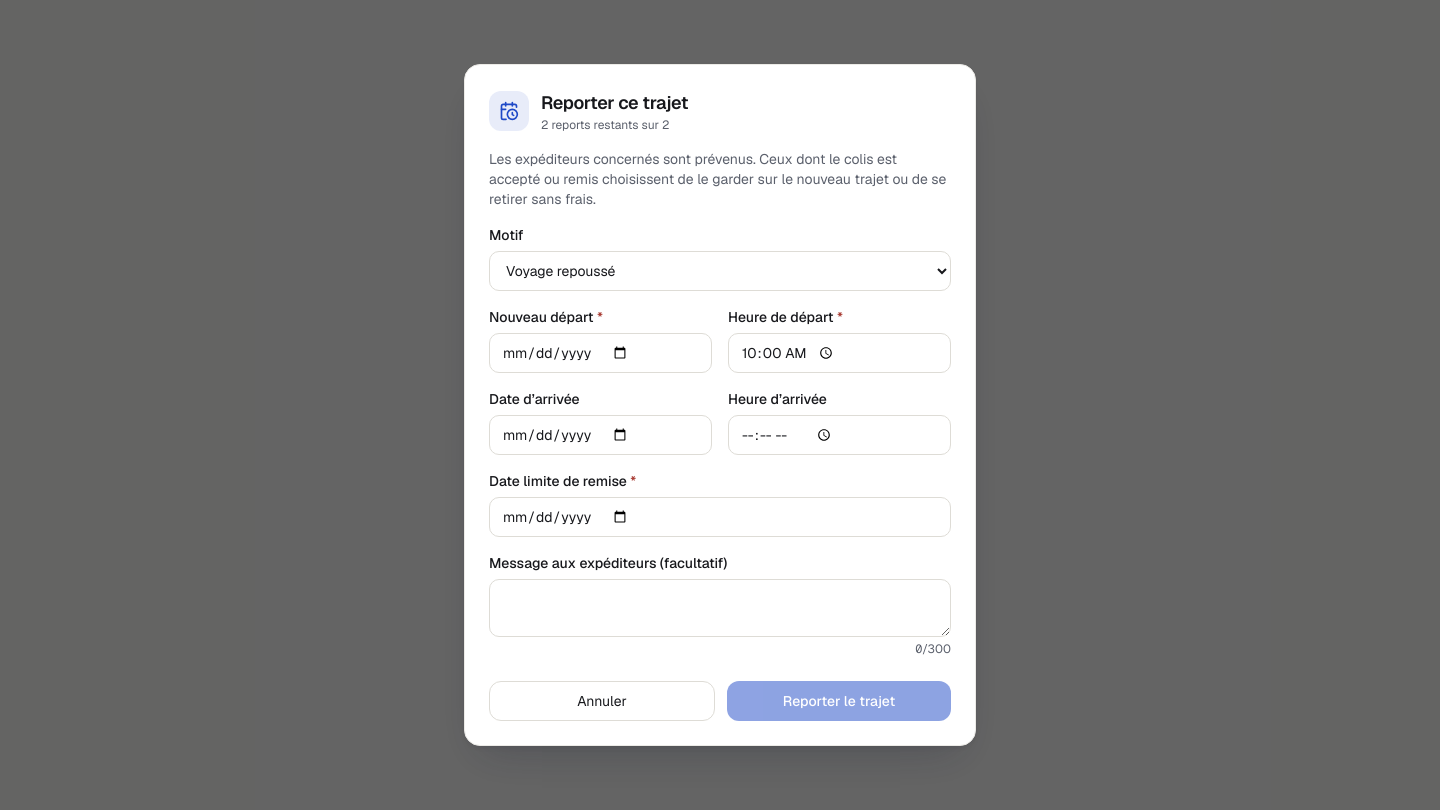
it: RescheduleTripModal › refuse une arrivée plus de 3 jours après le départ et une limite après le départ
The width and height of the screenshot is (1440, 810).
Type "2030-06-10" into the date field with test id "reschedule-departure-date".
click(600, 353); type("2030-06-10")  # box [489, 333, 712, 373]
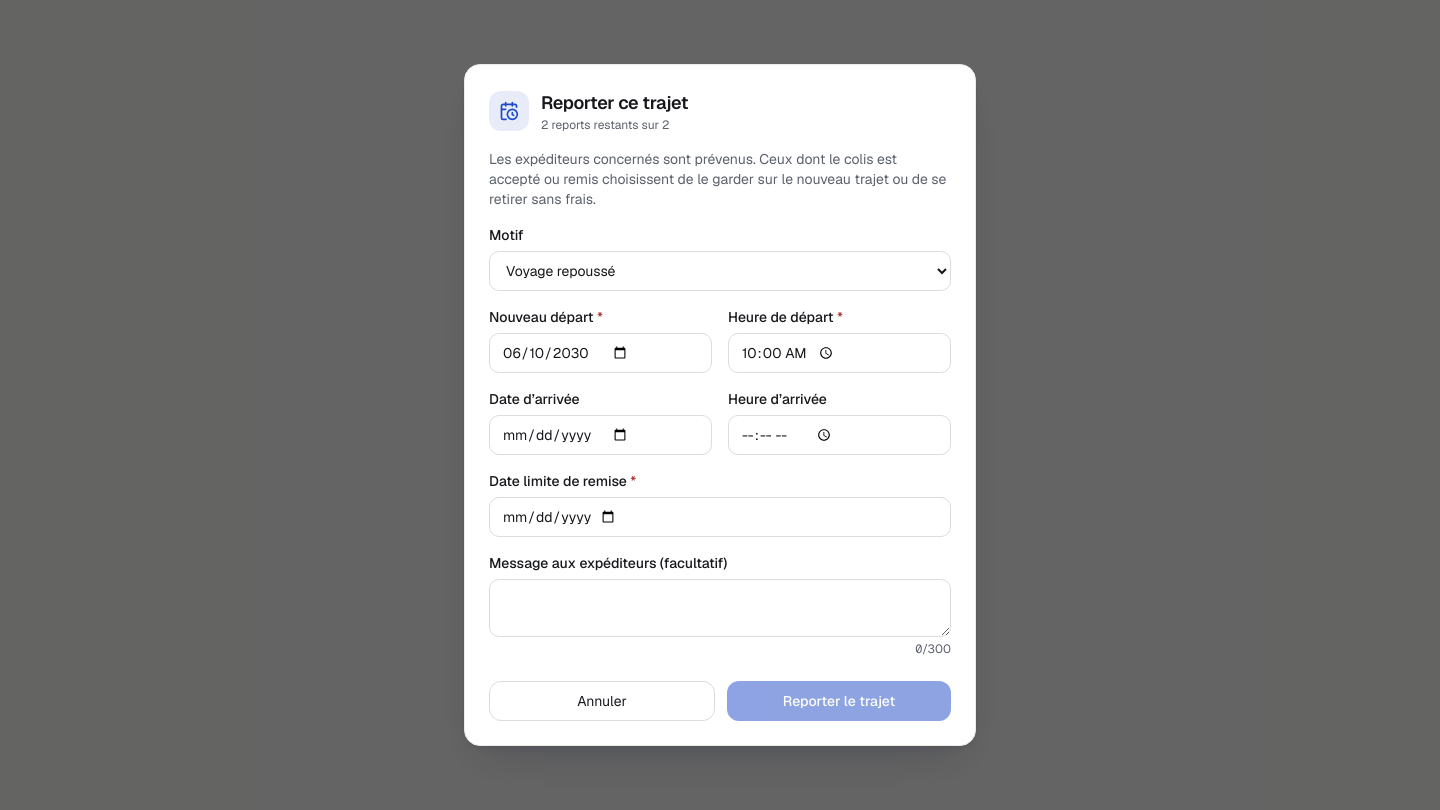
Replace the text in the time field with test id "reschedule-departure-time" with "22:00" at (840, 353), box [728, 333, 951, 373]
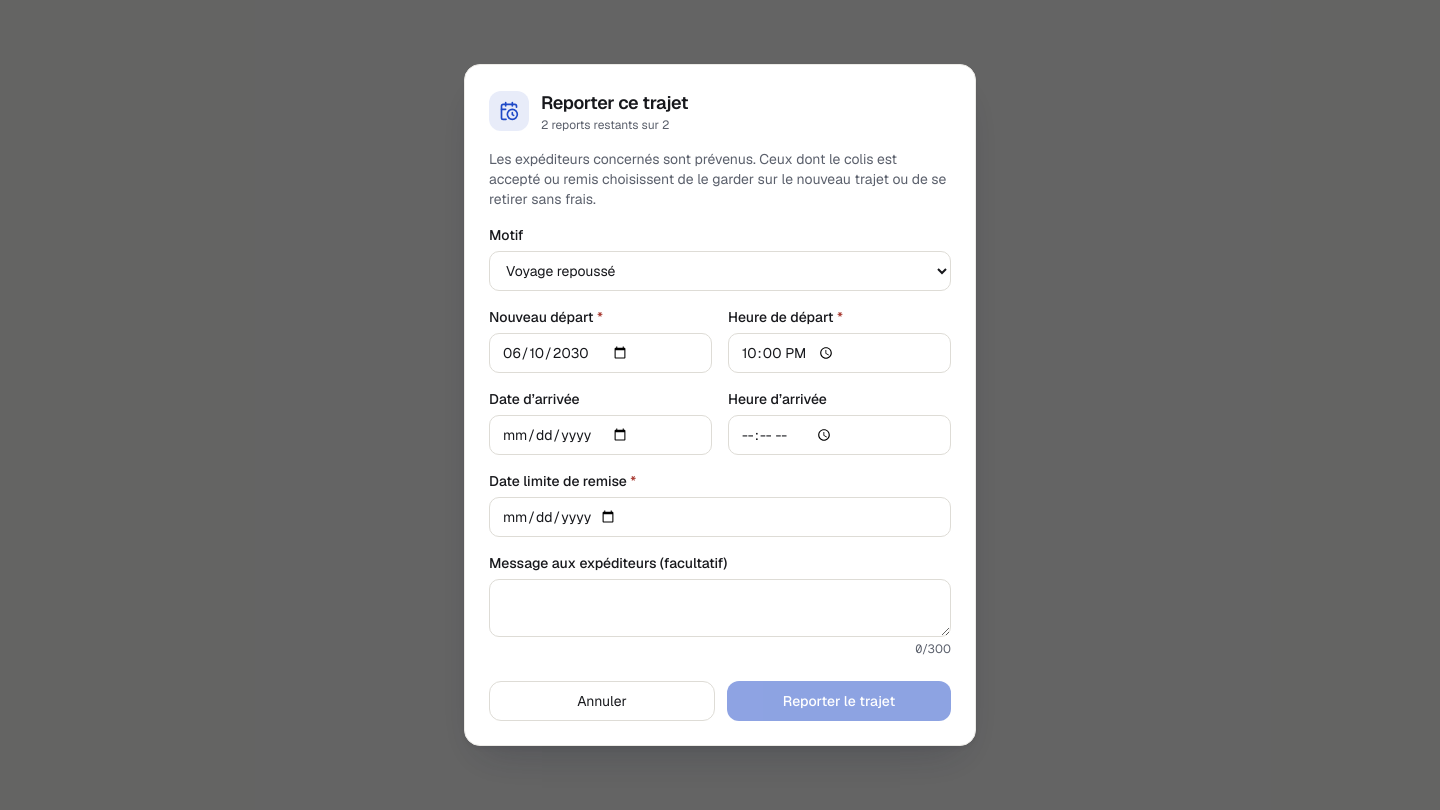
Type "2030-06-14" into the date field with test id "reschedule-arrival-date".
click(600, 435); type("2030-06-14")  # box [489, 415, 712, 455]
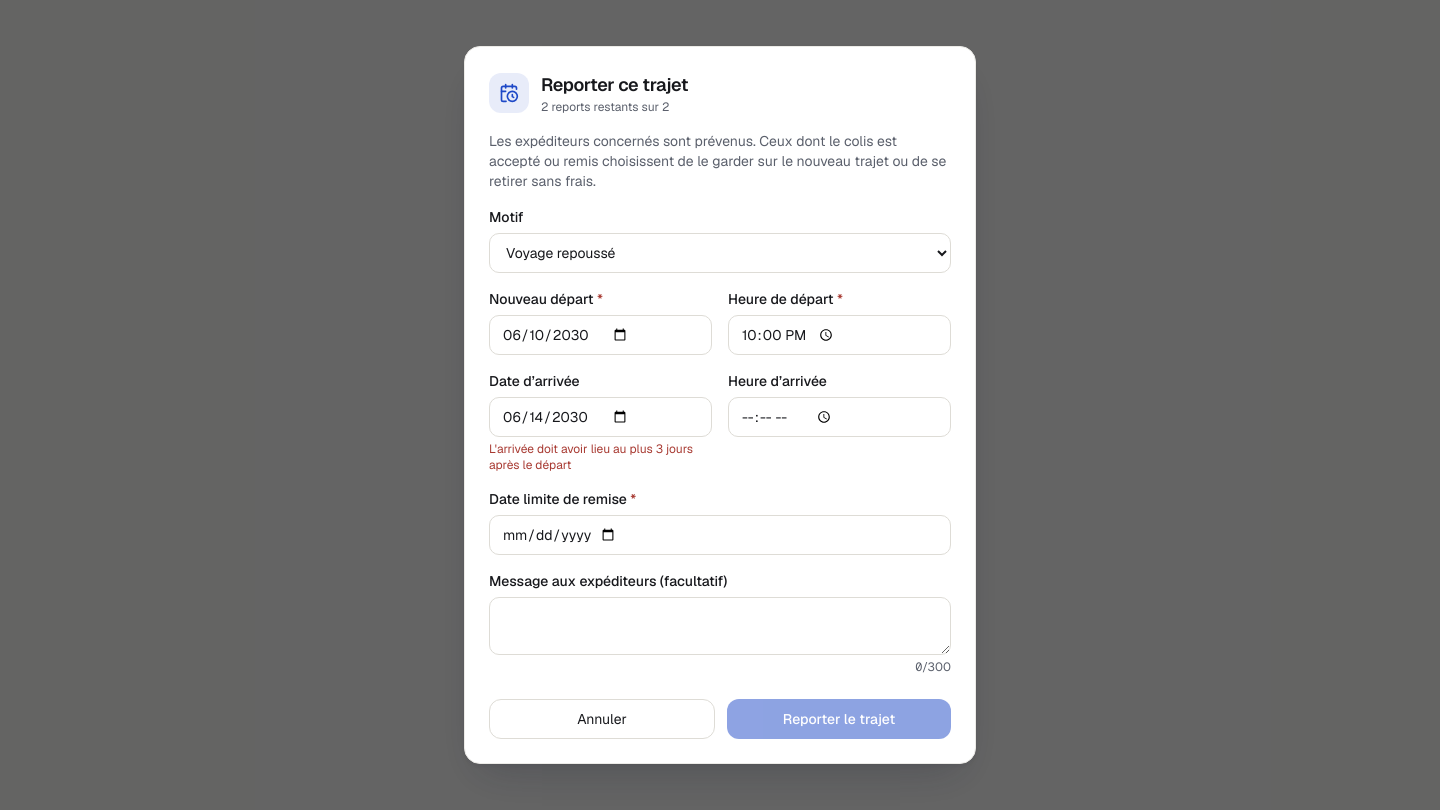
Type "2030-06-11" into the date field with test id "reschedule-deadline".
click(720, 535); type("2030-06-11")  # box [489, 515, 951, 555]
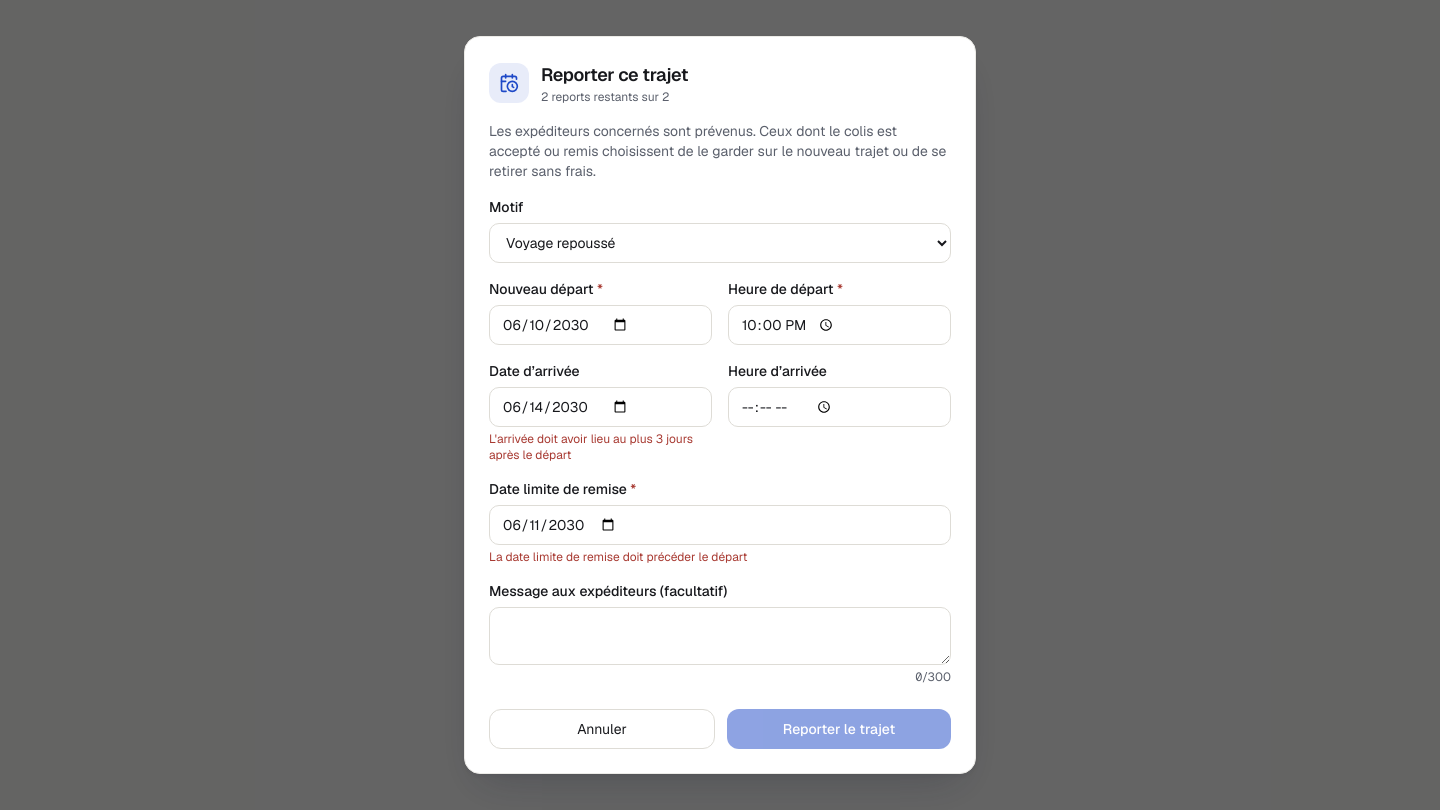
Expected: the button with test id "reschedule-submit" is disabled, [727, 709, 951, 749]
Result: the text "au plus 3 jours" is shown at [489, 431, 693, 463]
Result: the text "doit précéder le départ" is shown at [489, 549, 747, 565]
